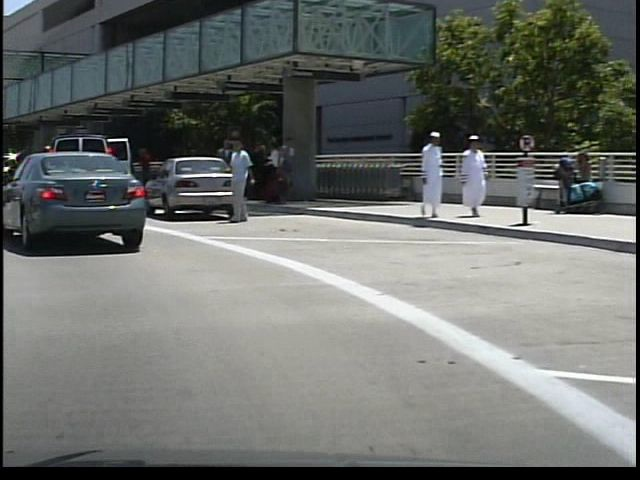person: (220, 133, 256, 229), (451, 130, 486, 221), (410, 126, 442, 220), (267, 135, 293, 208), (130, 142, 153, 206)
